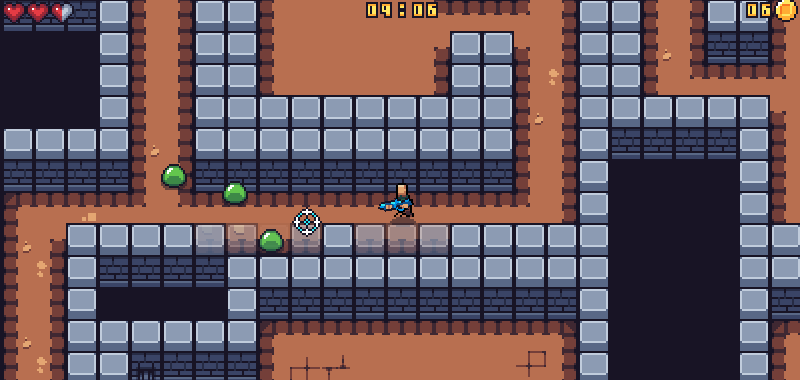enemy_slug: (157, 162, 189, 191), (255, 225, 286, 254), (220, 180, 249, 206)
